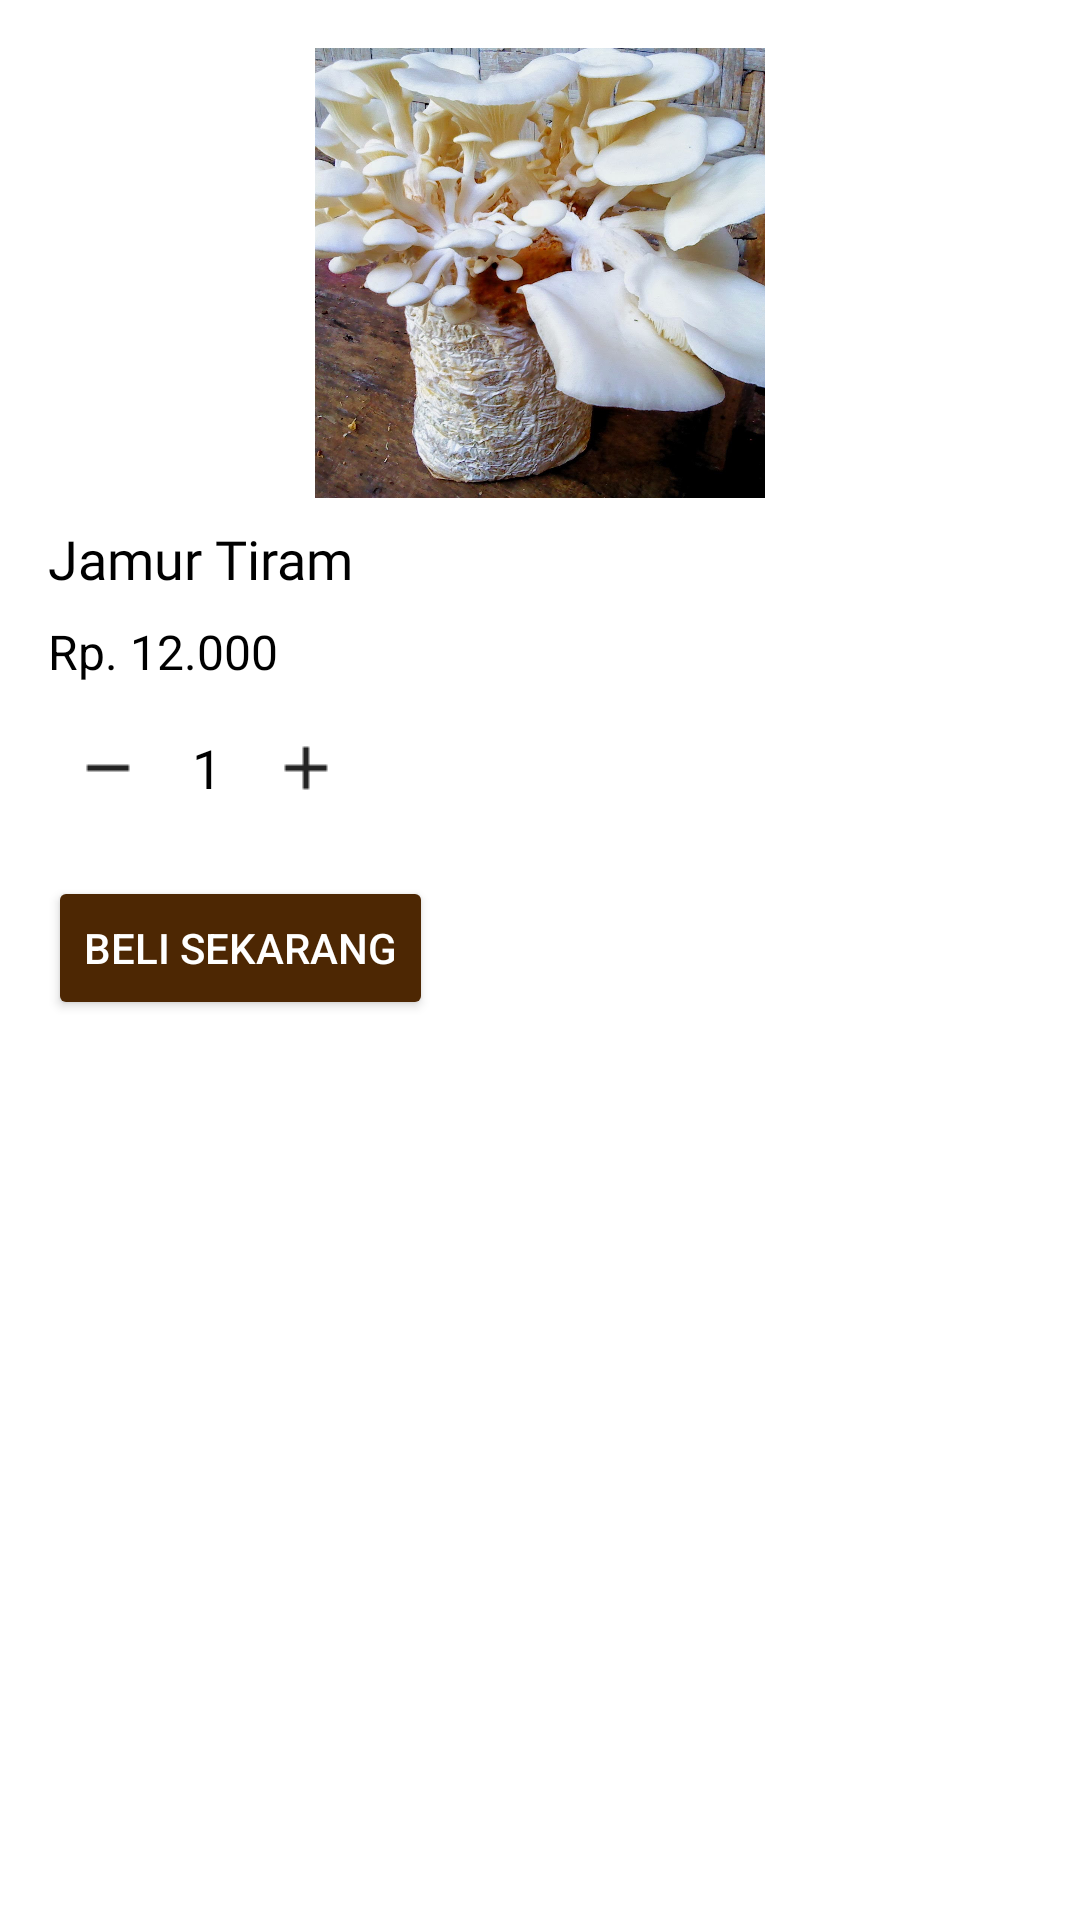

Icons on this 1080x1920 Android screen, each with the point to tap as point (x, y):
Decrease Quantity: point (108, 768)
Increase Quantity: point (306, 768)
